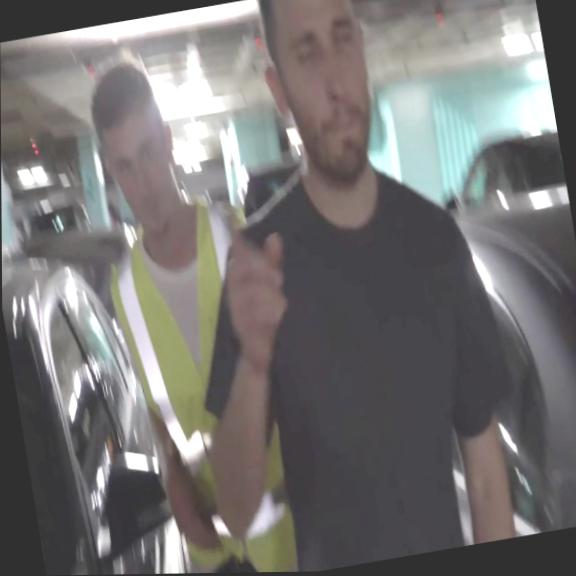safety_vest: (96, 185, 305, 575)
